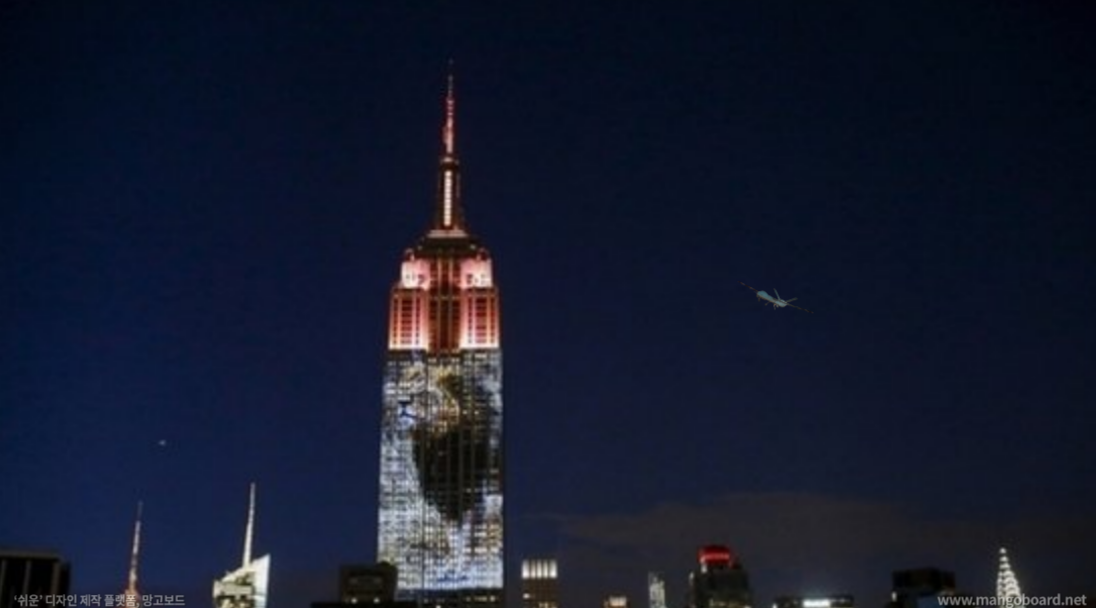military drone: (737, 279, 815, 314)
